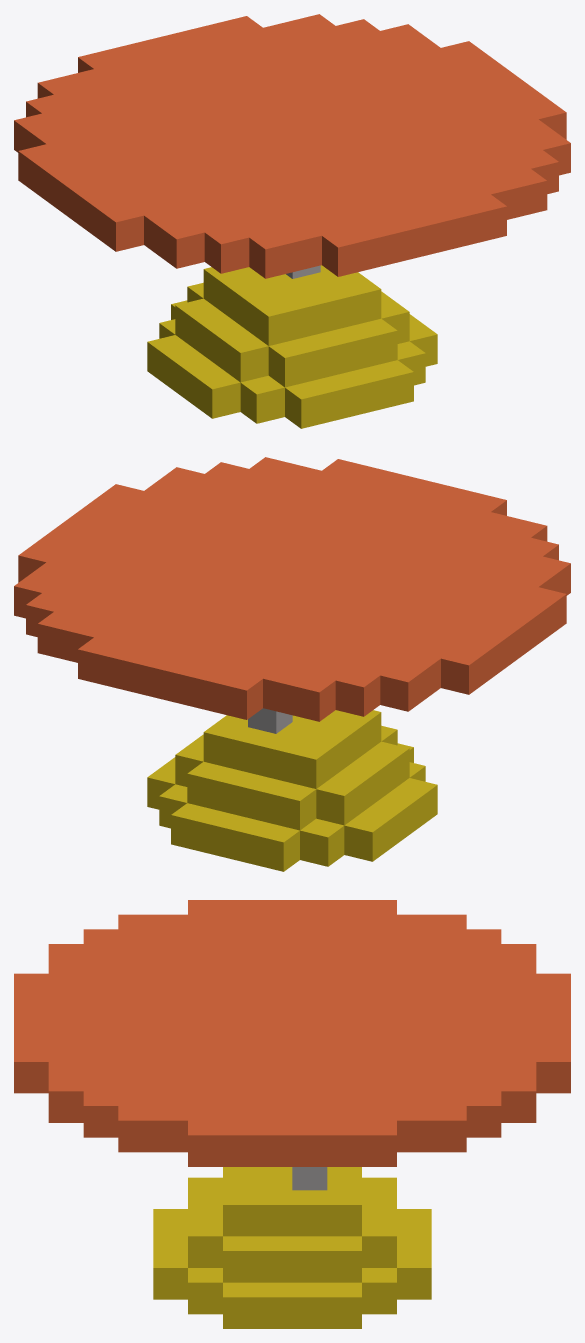
File: hopping.fbx
The picture shows the model from 3 angles, top to bottom: view 1: azimuth 30°, elevation 25°; view 2: azimuth 150°, elevation 25°; view 3: azimuth 270°, elevation 25°; orthographic projection. The views are drawn at different scales.
Parts seen in each view (by area): view 1: hopping; view 2: hopping; view 3: hopping.
Boxes of the visible parts, left/top/right/bottom form: hopping: left=14, top=14, right=570, bottom=428; hopping: left=14, top=457, right=570, bottom=871; hopping: left=14, top=900, right=570, bottom=1328.
Size of the model in its own units: 160 by 80 by 160.
